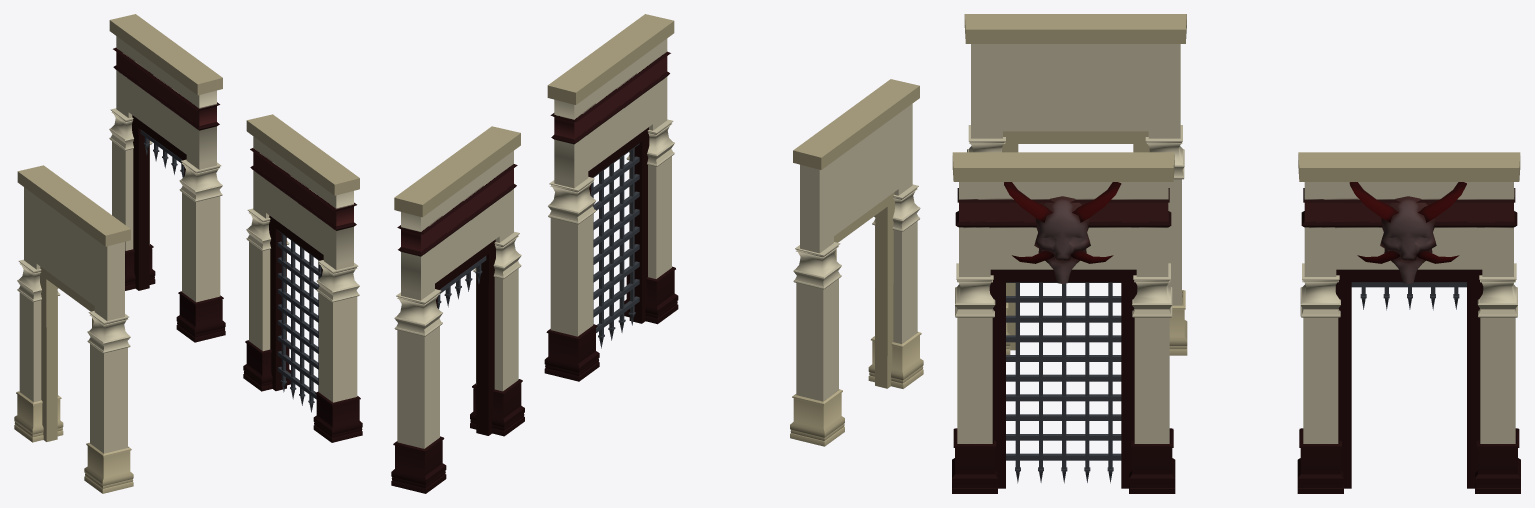
File: Sea Temple Door (3).fbx
3 views of the same model, side by side, from view 1: azimuth 30°, elevation 25°; view 2: azimuth 150°, elevation 25°; view 3: azimuth 270°, elevation 25° (orthographic). The views are drawn at different scales.
Parts seen in each view (by area): view 1: 02_Door, 02_Boss_Door, 02_Boss_Door001, Object4945, Object4946; view 2: 02_Door, 02_Boss_Door001, 02_Boss_Door, Object4945, Object4946; view 3: 02_Boss_Door, 02_Boss_Door001, 02_Door, Object4945, Object4946.
Boxes of the visible parts, <box> form: 02_Door: <box>14,165,133,493</box>; 02_Boss_Door: <box>243,114,362,442</box>; 02_Boss_Door001: <box>109,14,225,342</box>; Object4945: <box>277,230,321,412</box>; Object4946: <box>140,130,184,177</box>; 02_Door: <box>790,79,923,446</box>; 02_Boss_Door001: <box>391,126,524,493</box>; 02_Boss_Door: <box>544,14,678,381</box>; Object4945: <box>591,143,639,348</box>; Object4946: <box>437,256,486,308</box>; 02_Boss_Door: <box>952,152,1175,493</box>; 02_Boss_Door001: <box>1297,152,1520,493</box>; 02_Door: <box>964,14,1187,355</box>; Object4945: <box>1006,282,1121,483</box>; Object4946: <box>1351,282,1466,310</box>.
Size of the model in its own units: 543 by 511 by 810.
